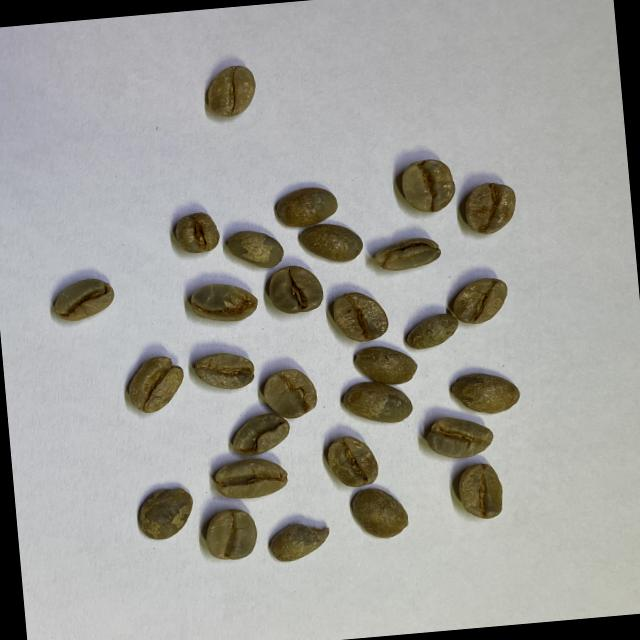bad: (188, 280, 261, 324), (227, 410, 291, 458), (372, 233, 444, 274), (266, 520, 332, 564)
good: (122, 353, 186, 415), (346, 483, 411, 541), (210, 455, 290, 501), (447, 367, 522, 416), (134, 484, 196, 542), (258, 364, 318, 422), (422, 414, 494, 462), (202, 505, 262, 562), (338, 382, 414, 427), (396, 158, 454, 216), (460, 181, 520, 237), (296, 218, 364, 267), (329, 290, 390, 344), (449, 274, 512, 326), (48, 276, 115, 322), (203, 64, 258, 120), (266, 263, 324, 316), (454, 462, 506, 521), (273, 187, 340, 230), (326, 436, 378, 490), (224, 227, 286, 272), (352, 342, 418, 384), (193, 351, 256, 392), (172, 210, 222, 256), (402, 312, 460, 351)
